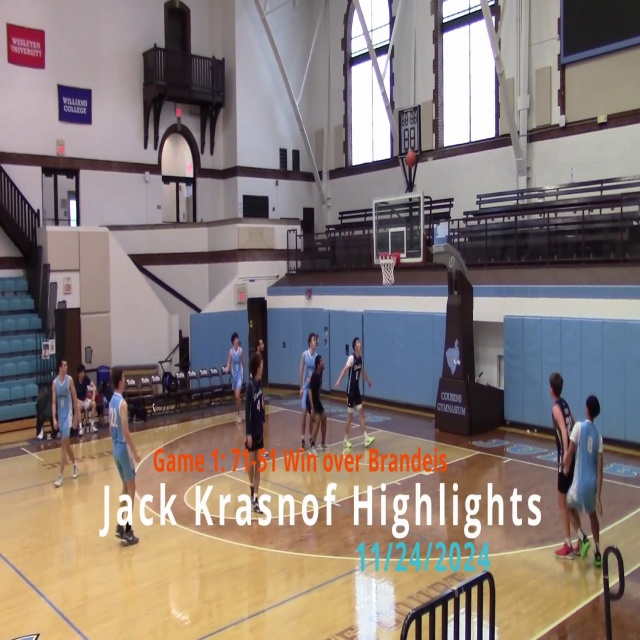Basketball: (405, 150, 416, 167), (245, 435, 253, 451), (344, 440, 352, 448), (175, 107, 182, 116)
